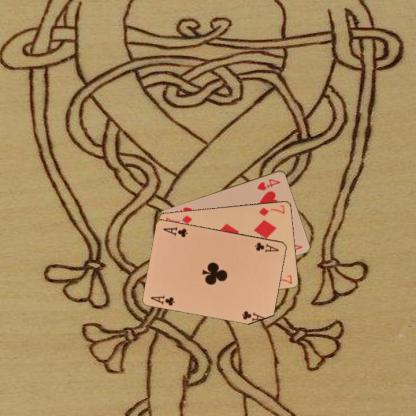4h: (254, 176, 282, 191)
7d: (257, 202, 286, 217)
Ac: (253, 239, 280, 254), (148, 293, 176, 307)
